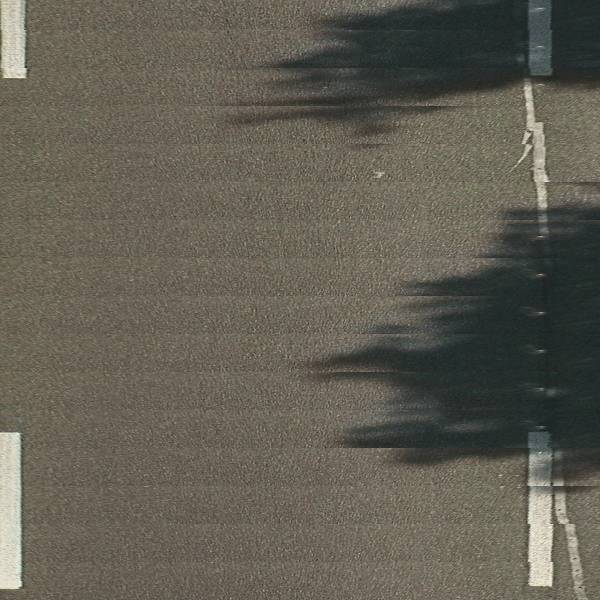road_damage: (519, 75, 559, 255), (553, 449, 589, 600)
